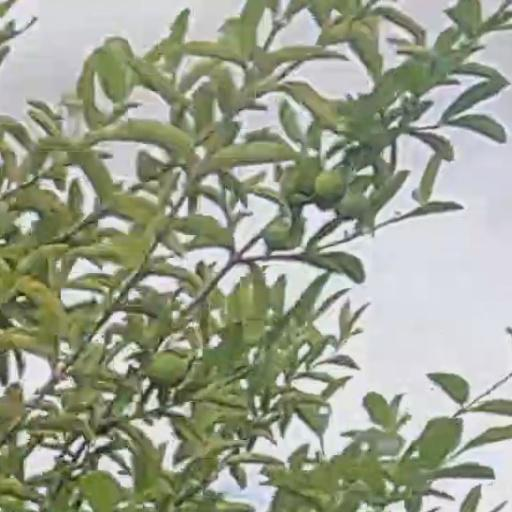acerola_verde: (150, 355, 184, 386), (318, 172, 345, 199)
